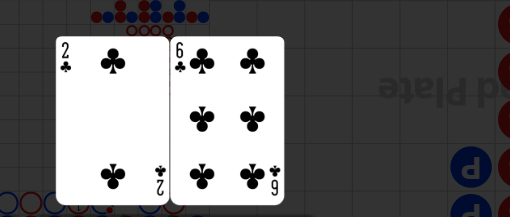2C: (59, 41, 73, 75)
6C: (267, 162, 282, 197)
